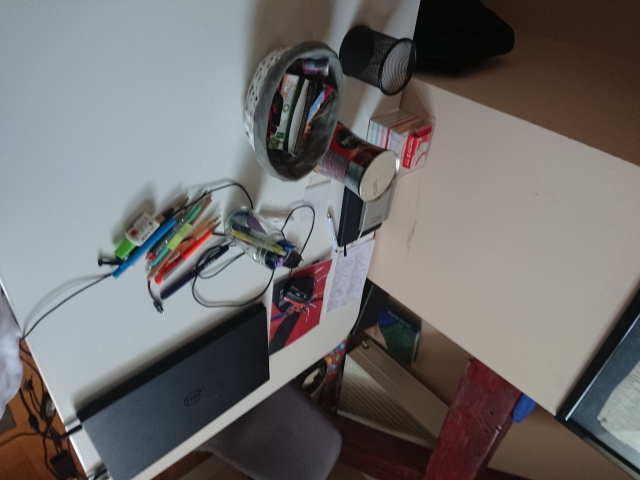Nescafe Classic 225g: (303, 117, 403, 206)
